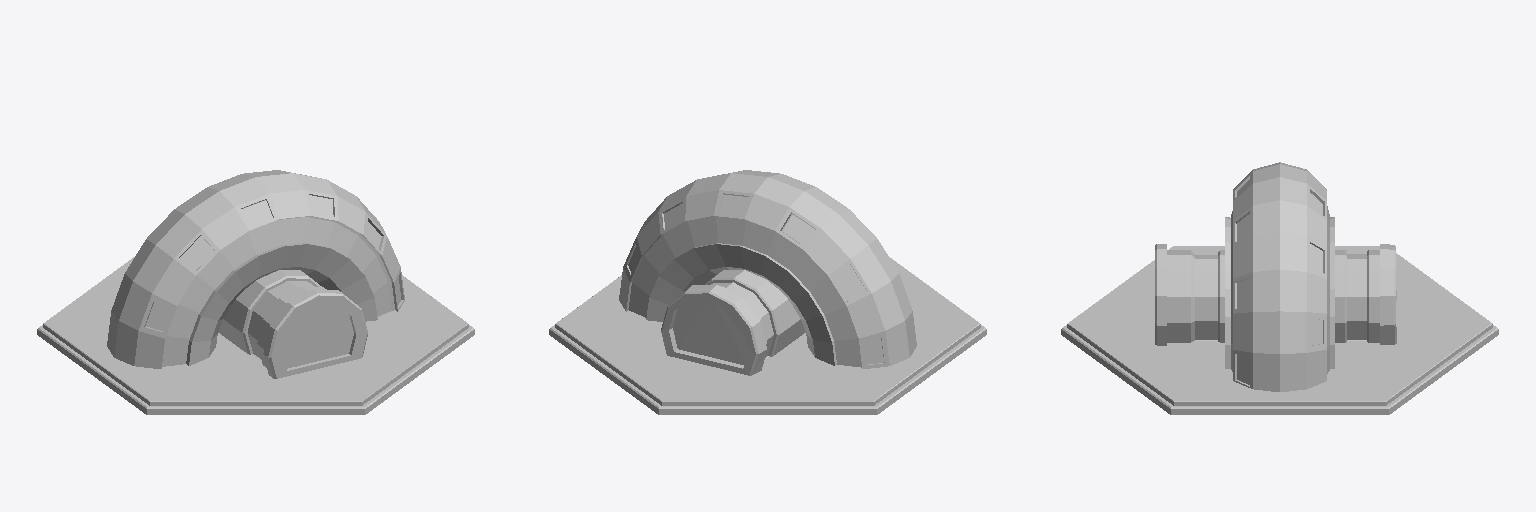
File: power.obj
3 views of the same model, side by side, from view 1: azimuth 30°, elevation 25°; view 2: azimuth 150°, elevation 25°; view 3: azimuth 270°, elevation 25° (orthographic).
Visible parts, largest first — view 1: Torus, Circle.002_Circle.004, Cylinder; view 2: Torus, Circle.002_Circle.004, Cylinder; view 3: Circle.002_Circle.004, Torus, Cylinder.
Boxes of the visible parts, box(x1,y1,x2,y2) form: Torus: box(107, 170, 404, 368); Circle.002_Circle.004: box(37, 257, 474, 414); Cylinder: box(218, 270, 367, 378); Torus: box(619, 170, 916, 368); Circle.002_Circle.004: box(549, 257, 986, 414); Cylinder: box(661, 270, 805, 375); Circle.002_Circle.004: box(1061, 246, 1498, 414); Torus: box(1225, 162, 1334, 391); Cylinder: box(1155, 244, 1396, 345).
Size of the model in its own units: 1.73 by 0.7966 by 2.